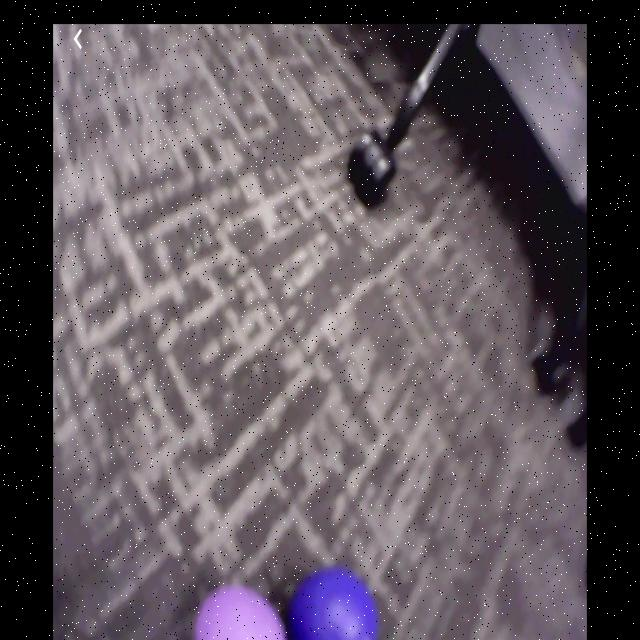ball: (289, 572, 385, 640), (192, 587, 290, 640)
